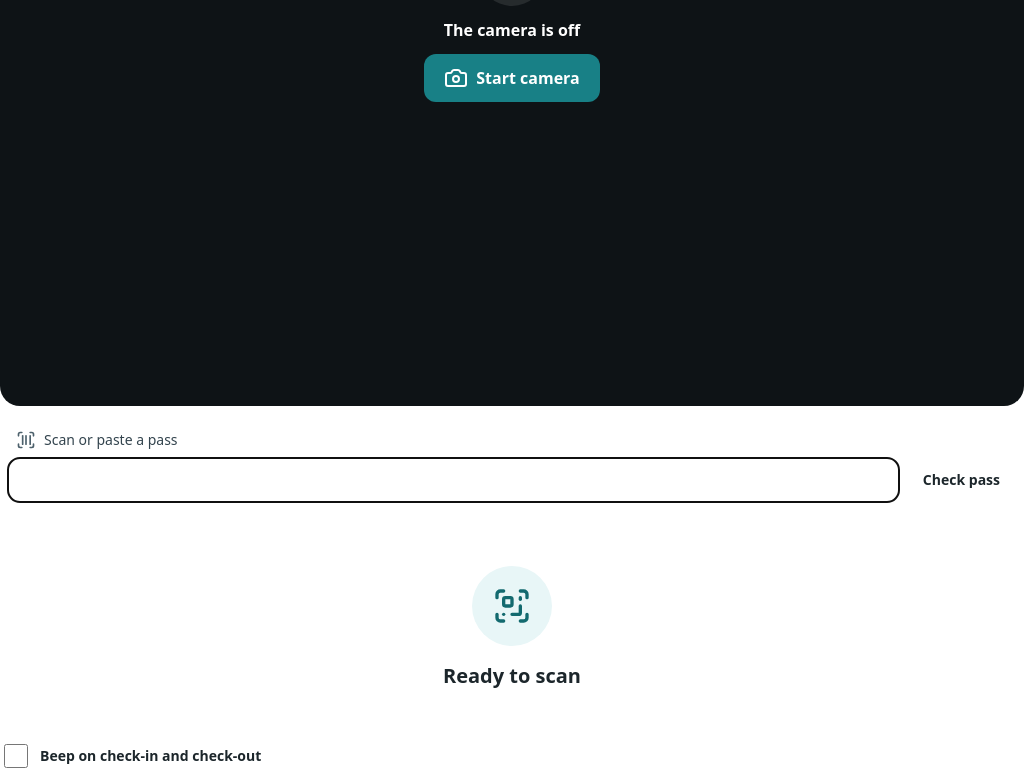
Scenario: reception scanner: handheld scanner and paste input › sends input that is not a pass to the server, which answers and records PASS_INVALID
(page scrolled)
Type "hello world" into the field labelled "Scan or paste a pass" at [453, 480], box x1=8 y1=458 x2=899 y2=502
Then press Enter
(page scrolled)
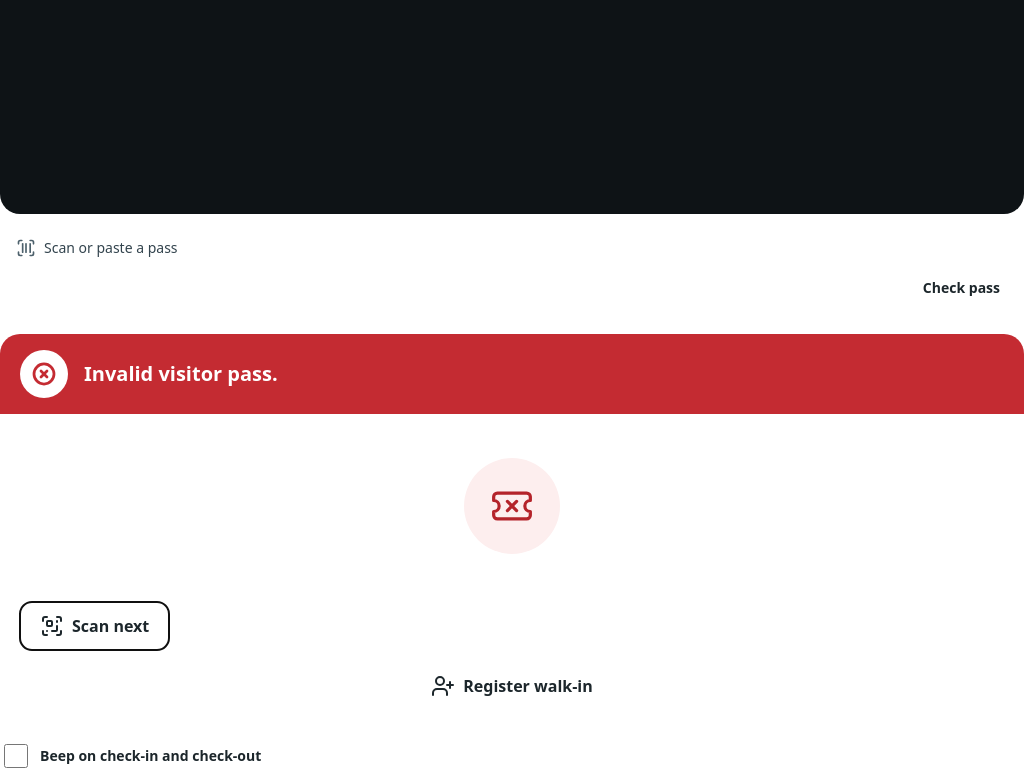
Now the button "Register walk-in" is shown, box x1=20 y1=662 x2=1004 y2=710
